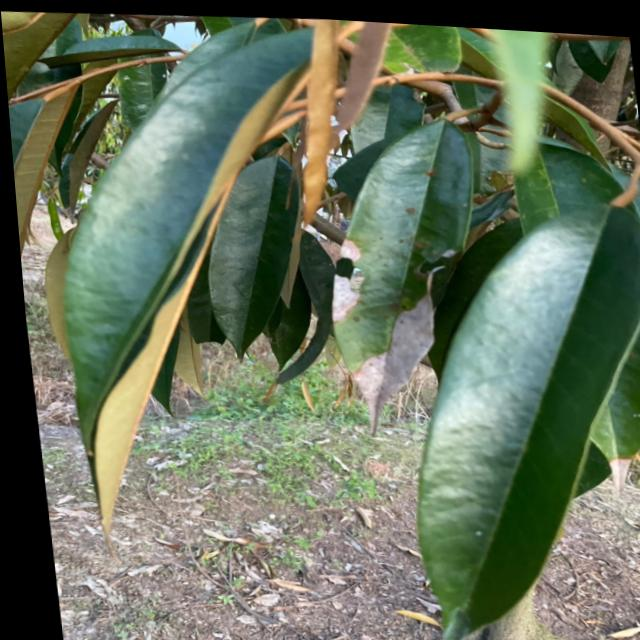Leaf Blight: (328, 113, 470, 435)
